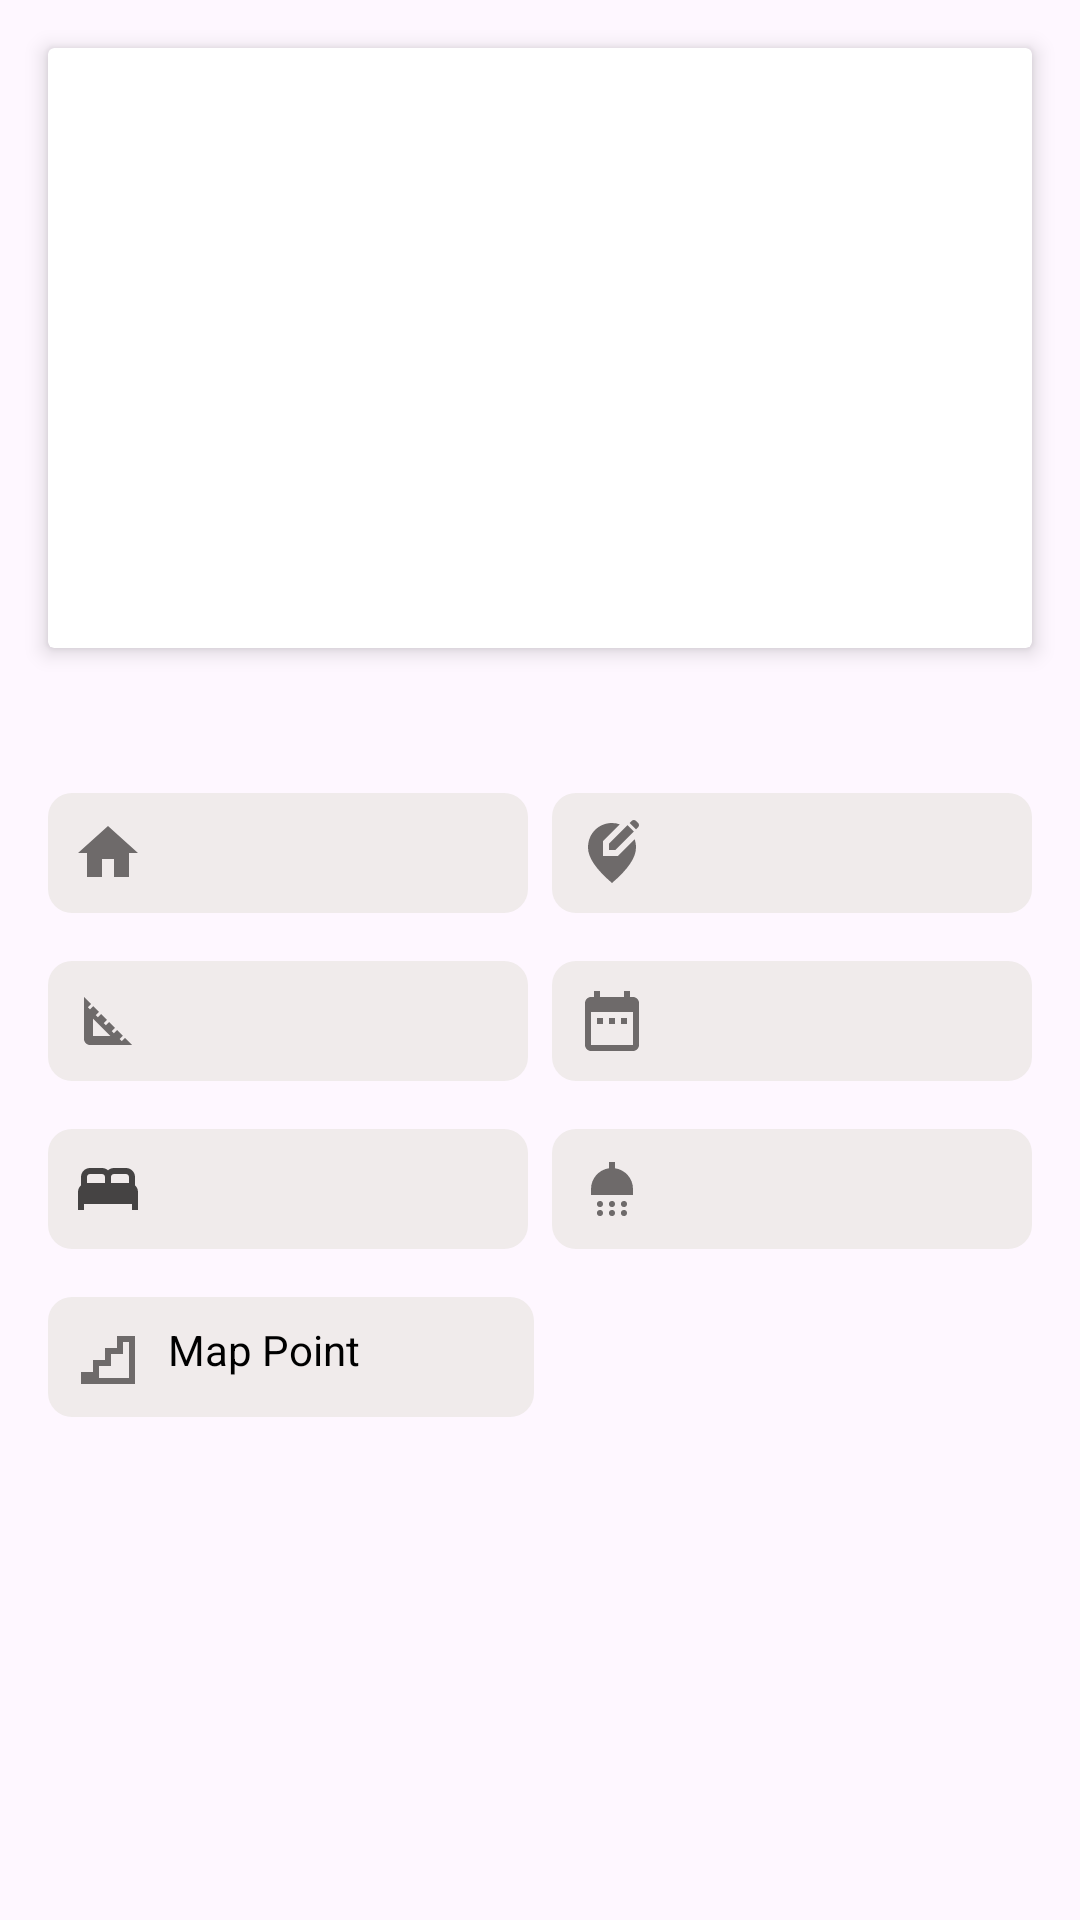

Icon bounding boxes for this 1080 x 1920 phone screenshot, format (x1, y1, x2, y2):
bed: (78, 1168, 138, 1210)
date range: (585, 991, 639, 1051)
edit location: (588, 820, 639, 883)
home: (78, 826, 138, 877)
shower: (591, 1162, 633, 1216)
square foot: (84, 997, 132, 1045)
stairs: (81, 1336, 135, 1384)
